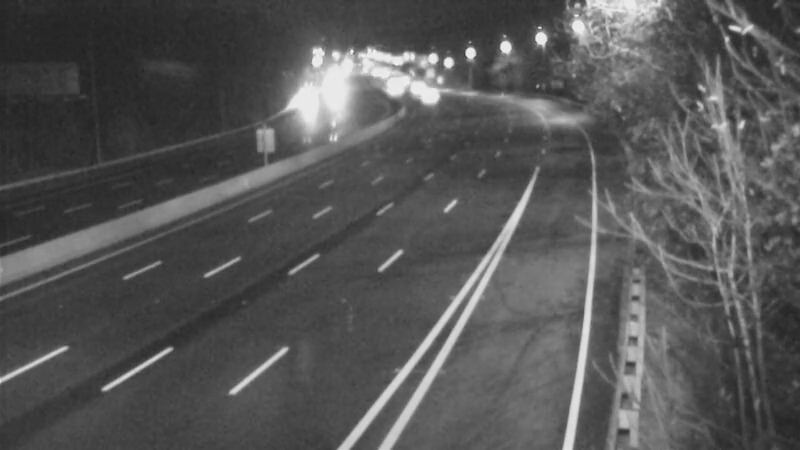vehicle: (388, 59, 438, 109), (366, 65, 416, 115), (405, 69, 455, 119)
